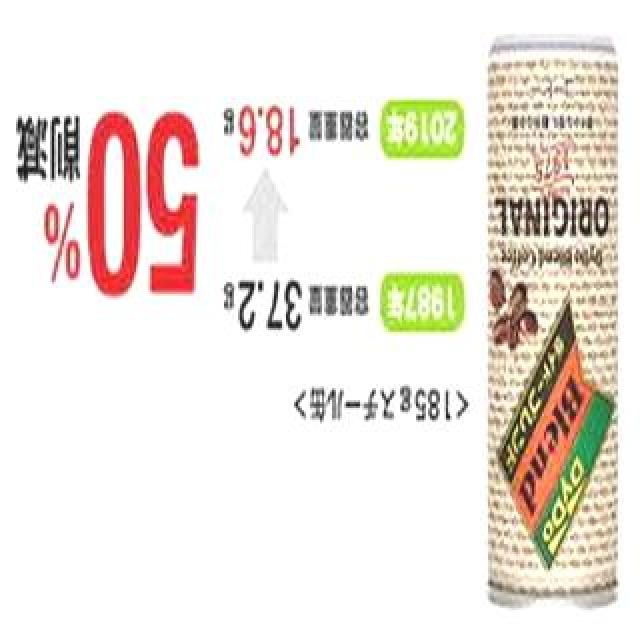Can: (474, 23, 626, 617)
